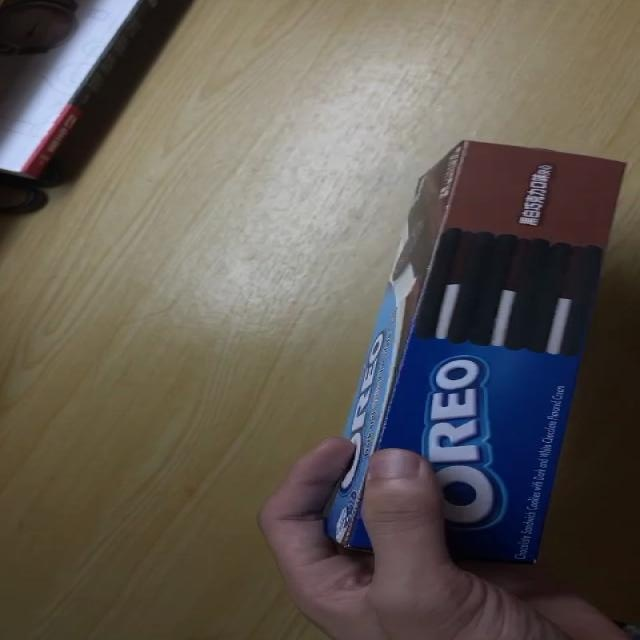Oreo: (307, 139, 629, 565)
